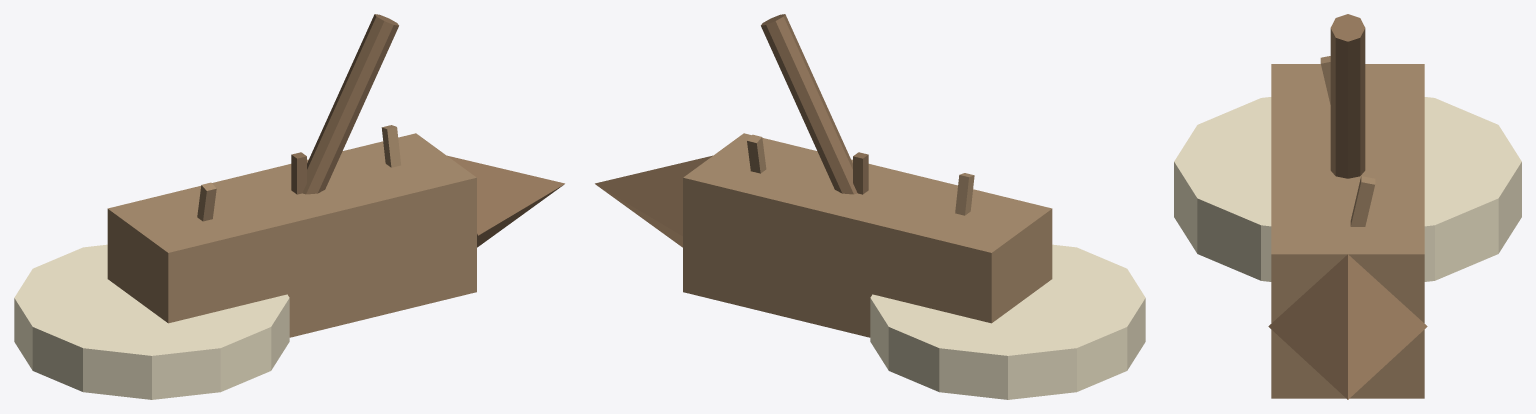
File: 45-Arte3D_barco_hundido.glb
The picture shows the model from 3 angles, left to right: view 1: azimuth 30°, elevation 25°; view 2: azimuth 150°, elevation 25°; view 3: azimuth 270°, elevation 25°; orthographic projection. The views are drawn at different scales.
Visible parts, largest first — view 1: SM_Barco_M_Barco_Madera, SM_Barco_M_Arena_Isla, SM_Barco_M_Barco_Madera_Osc; view 2: SM_Barco_M_Barco_Madera, SM_Barco_M_Arena_Isla, SM_Barco_M_Barco_Madera_Osc; view 3: SM_Barco_M_Barco_Madera, SM_Barco_M_Arena_Isla, SM_Barco_M_Barco_Madera_Osc.
Boxes of the visible parts, <box> form: SM_Barco_M_Barco_Madera: <box>107,125,476,337</box>; SM_Barco_M_Arena_Isla: <box>14,244,289,399</box>; SM_Barco_M_Barco_Madera_Osc: <box>291,14,564,247</box>; SM_Barco_M_Barco_Madera: <box>683,133,1052,337</box>; SM_Barco_M_Arena_Isla: <box>870,244,1145,399</box>; SM_Barco_M_Barco_Madera_Osc: <box>595,14,868,247</box>; SM_Barco_M_Barco_Madera: <box>1271,56,1424,398</box>; SM_Barco_M_Arena_Isla: <box>1174,97,1521,281</box>; SM_Barco_M_Barco_Madera_Osc: <box>1268,14,1427,399</box>.
Size of the model in its own units: 3.8 by 1.84 by 1.7.
